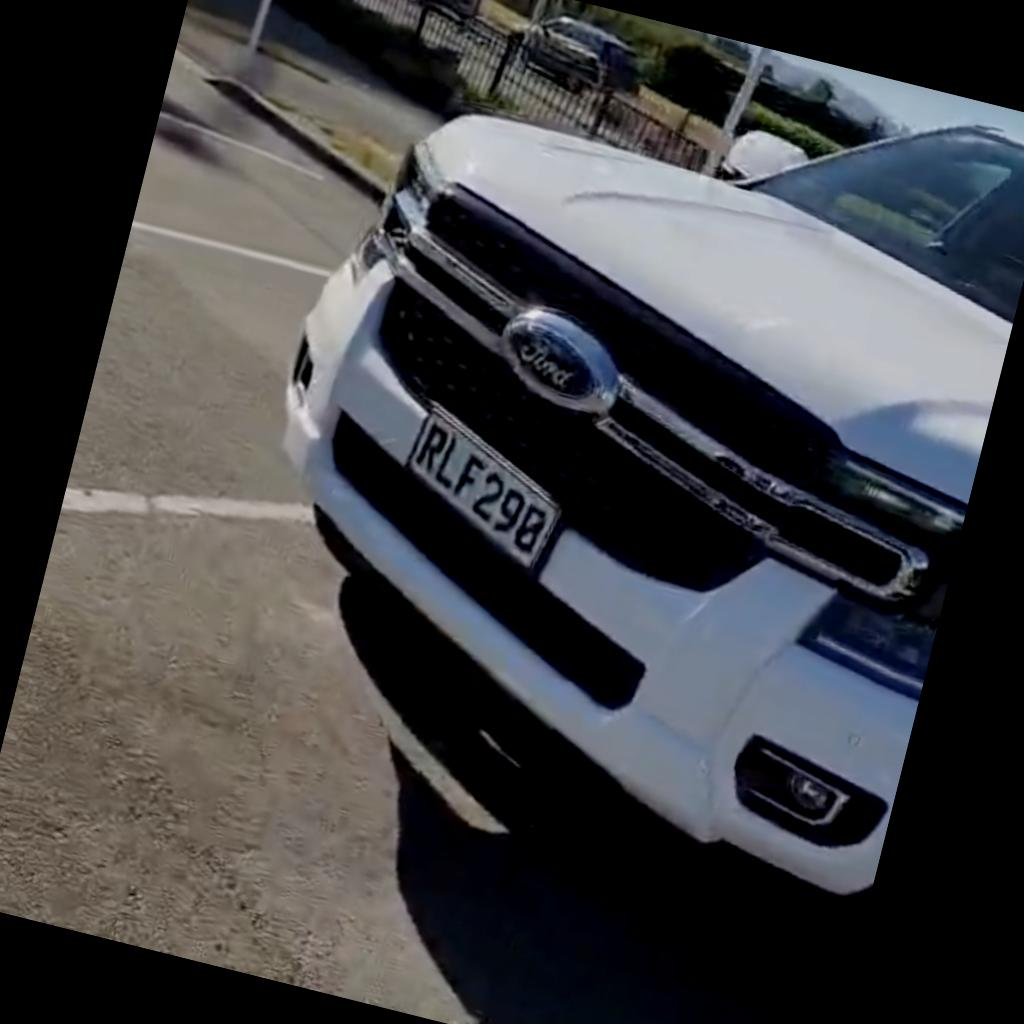Number-Plates: (378, 387, 587, 602)
